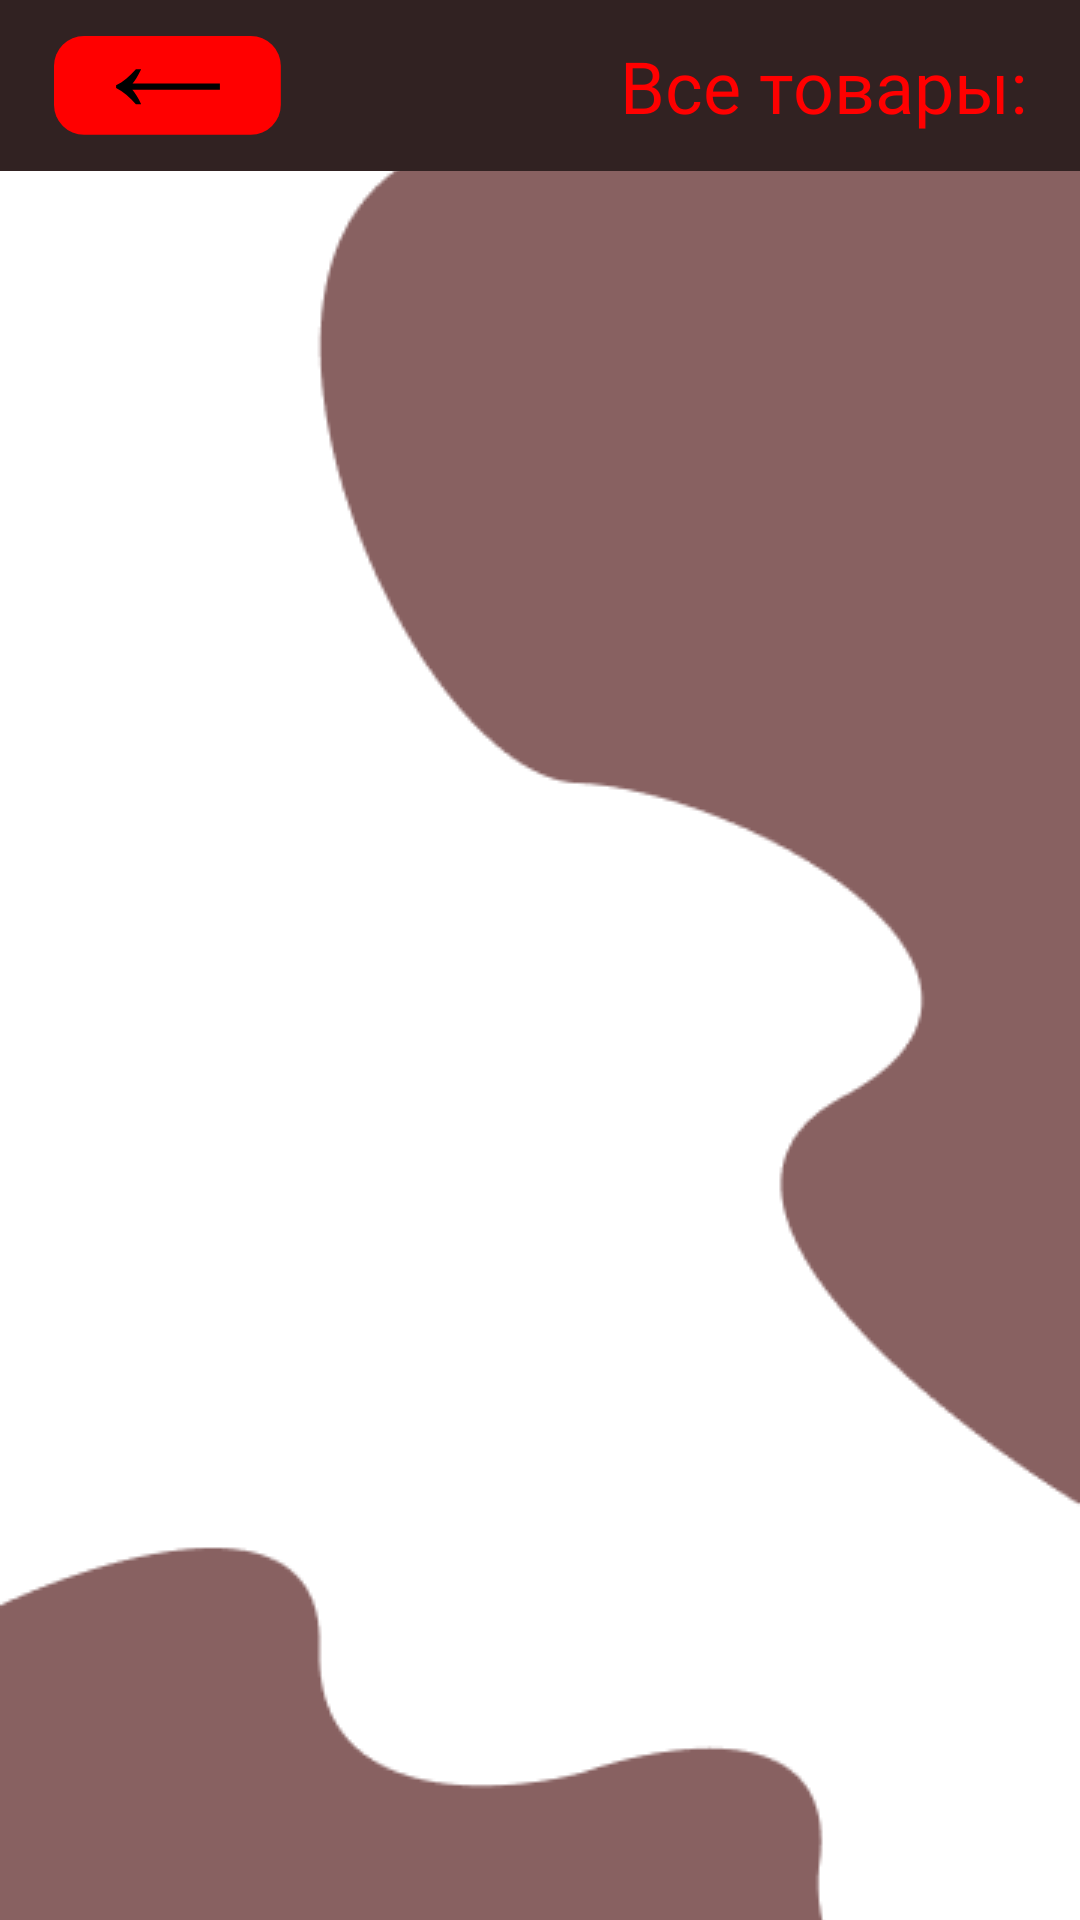

Icons on this 1080px x 1920px Android screen, each with its box as (x1, y1, x2, y2):
back: (54, 36, 281, 135)
